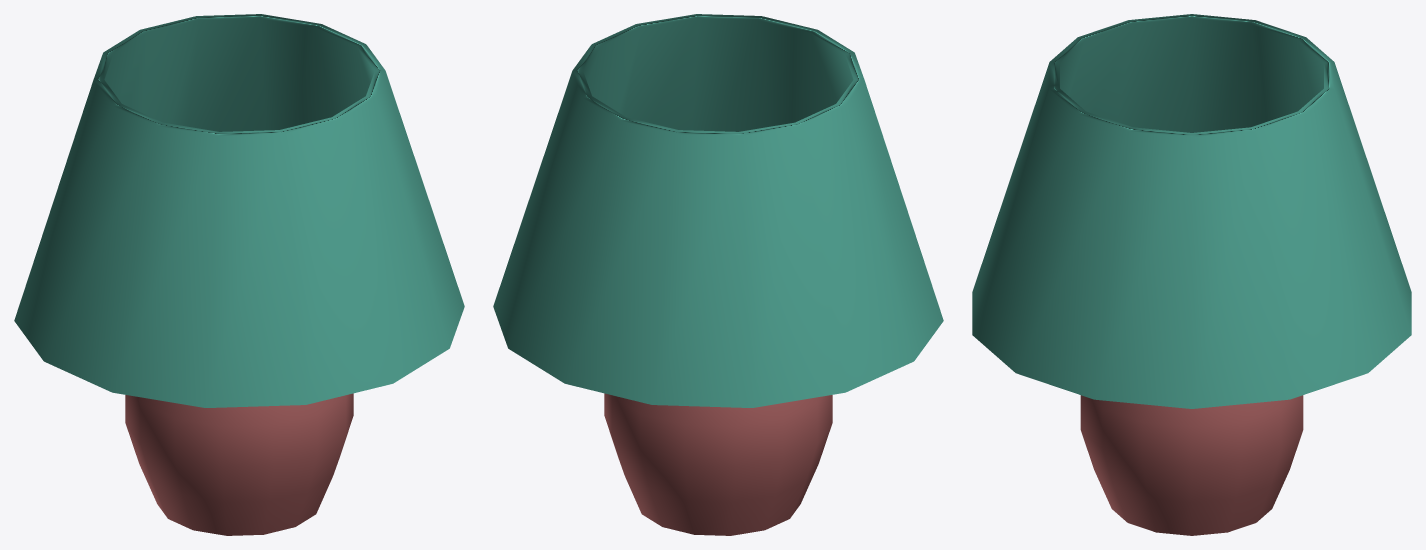
The model's file is bedsideLamp.fbx.
The picture shows the model from 3 angles, left to right: view 1: azimuth 30°, elevation 25°; view 2: azimuth 150°, elevation 25°; view 3: azimuth 270°, elevation 25°; orthographic projection.
Visible parts, largest first — view 1: bedsideLamp; view 2: bedsideLamp; view 3: bedsideLamp.
Boxes of the visible parts, bbox=[...] form: bedsideLamp: bbox=[14, 14, 464, 535]; bedsideLamp: bbox=[493, 14, 943, 535]; bedsideLamp: bbox=[972, 14, 1411, 535].
Size of the model in its own units: 0.4 by 0.4164 by 0.39.
